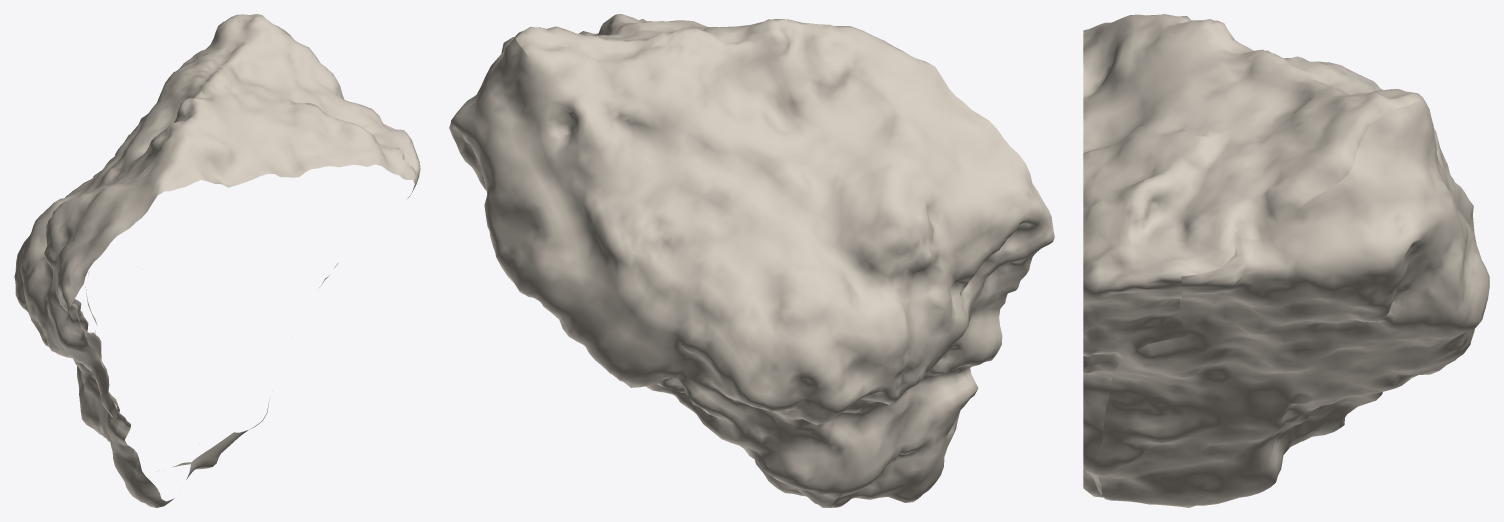
The model's file is gray-big-rock_original.glb.
3 views of the same model, side by side, from view 1: azimuth 30°, elevation 25°; view 2: azimuth 150°, elevation 25°; view 3: azimuth 270°, elevation 25° (orthographic). The views are drawn at different scales.
Parts seen in each view (by area): view 1: world; view 2: world; view 3: world.
Part boxes in pixels (bbox=[...]): world: bbox=[14, 14, 420, 507]; world: bbox=[449, 14, 1054, 507]; world: bbox=[1083, 14, 1489, 507].
Size of the model in its own units: 1.55 by 1.48 by 1.
